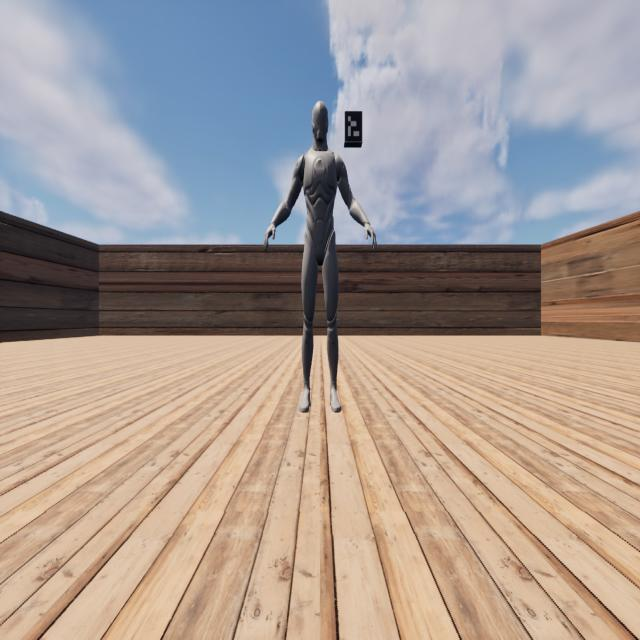aruco: (345, 111, 362, 142)
hip: (304, 230, 336, 242)
